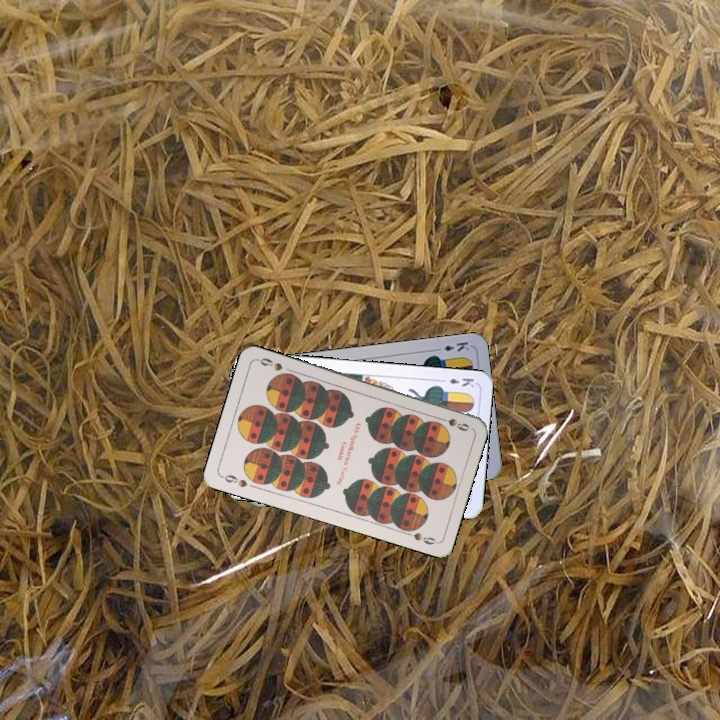EK: (431, 337, 472, 354), (436, 374, 477, 390)
S9: (433, 413, 472, 434), (218, 471, 250, 490)
